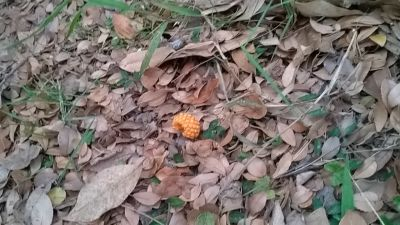eggs: (172, 111, 202, 140)
